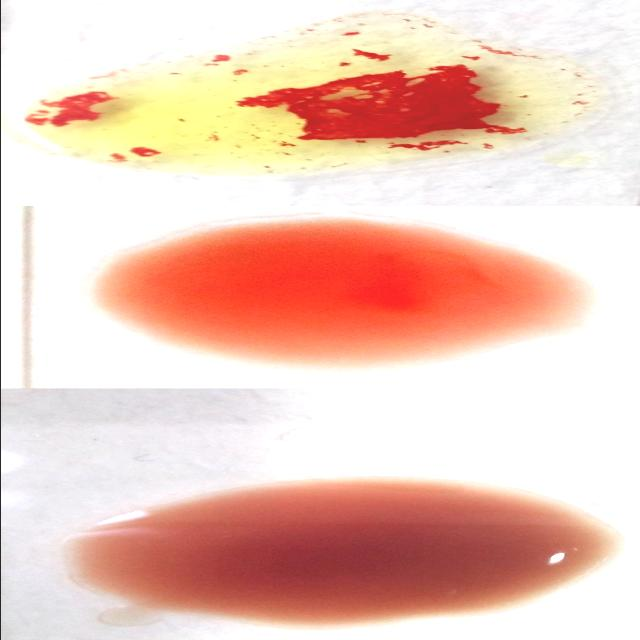B: (23, 32, 601, 174)
